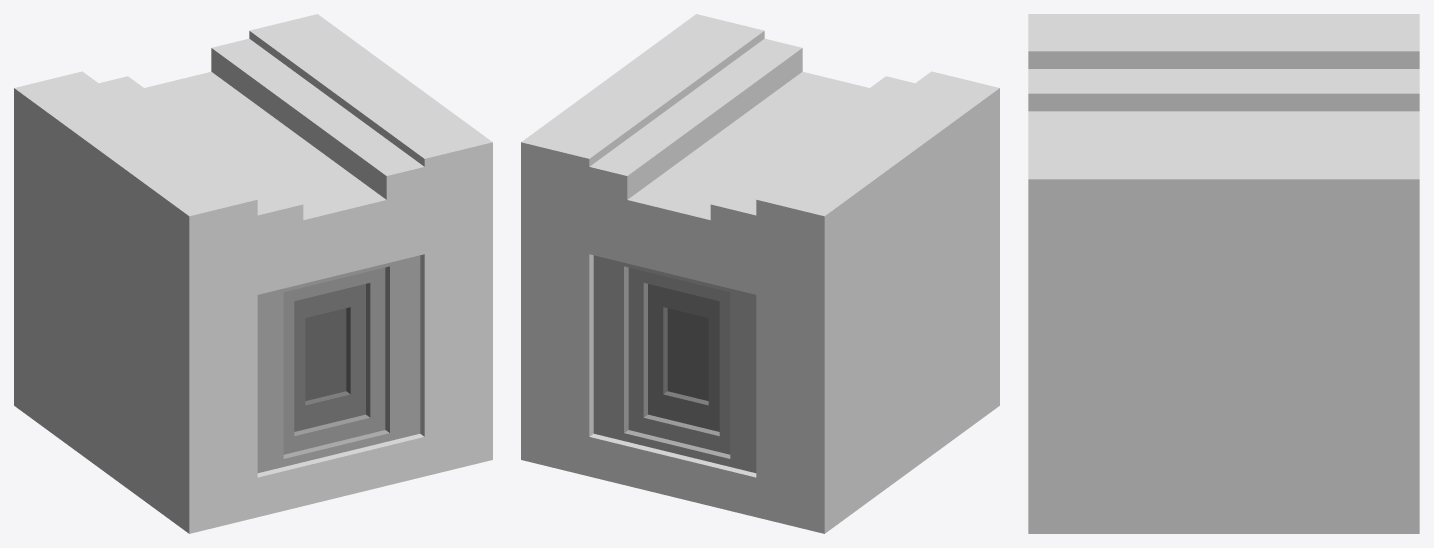
Rendered from MuroTop.FBX.
3 renders of one model, left to right at view 1: azimuth 30°, elevation 25°; view 2: azimuth 150°, elevation 25°; view 3: azimuth 270°, elevation 25°, orthographic. The views are drawn at different scales.
Visible parts, largest first — view 1: MuroTop; view 2: MuroTop; view 3: MuroTop.
Part boxes in pixels (x1,y1,x2,y2): MuroTop: (14, 14, 492, 533); MuroTop: (521, 14, 999, 533); MuroTop: (1028, 14, 1419, 533).
Size of the model in its own units: 1 by 1 by 1.
1 material, 1 textured.
